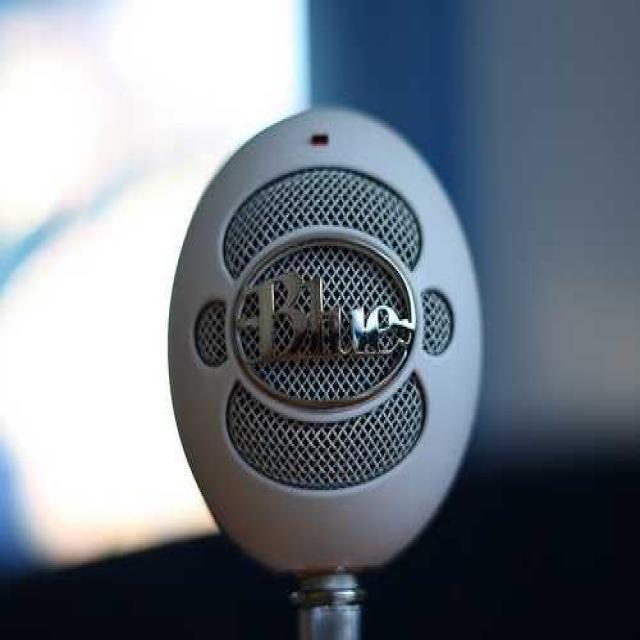microphone: (160, 97, 494, 561)
